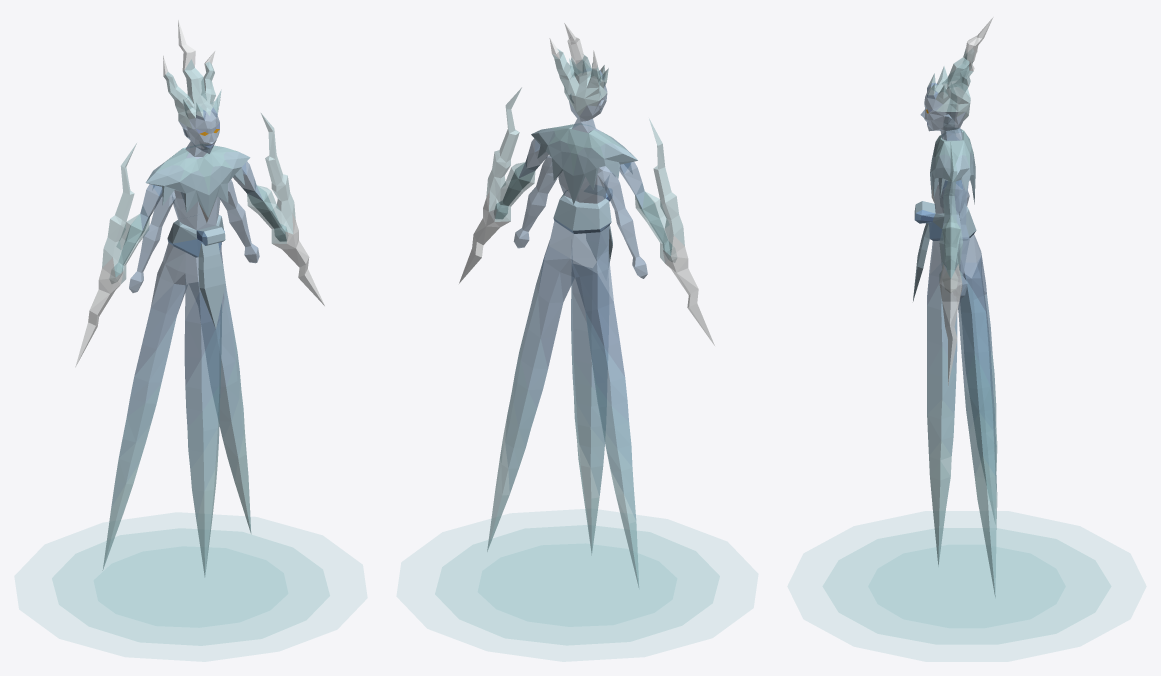
Rendered from amoxliatl.gltf.
3 renders of one model, left to right at view 1: azimuth 30°, elevation 25°; view 2: azimuth 150°, elevation 25°; view 3: azimuth 270°, elevation 25°, orthographic. The views are drawn at different scales.
Size of the model in its own units: 376 by 664 by 378.
2 materials, 2 textured.
